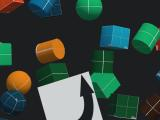Left: (37, 71, 102, 120)
